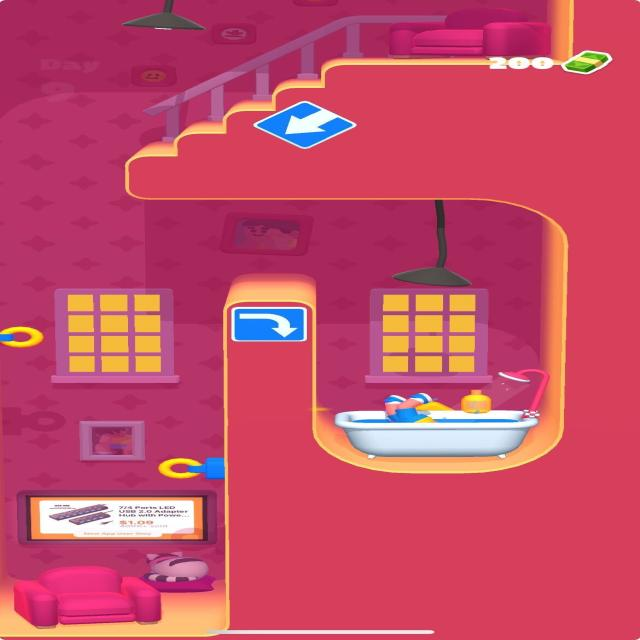billboard: (22, 492, 209, 543)
